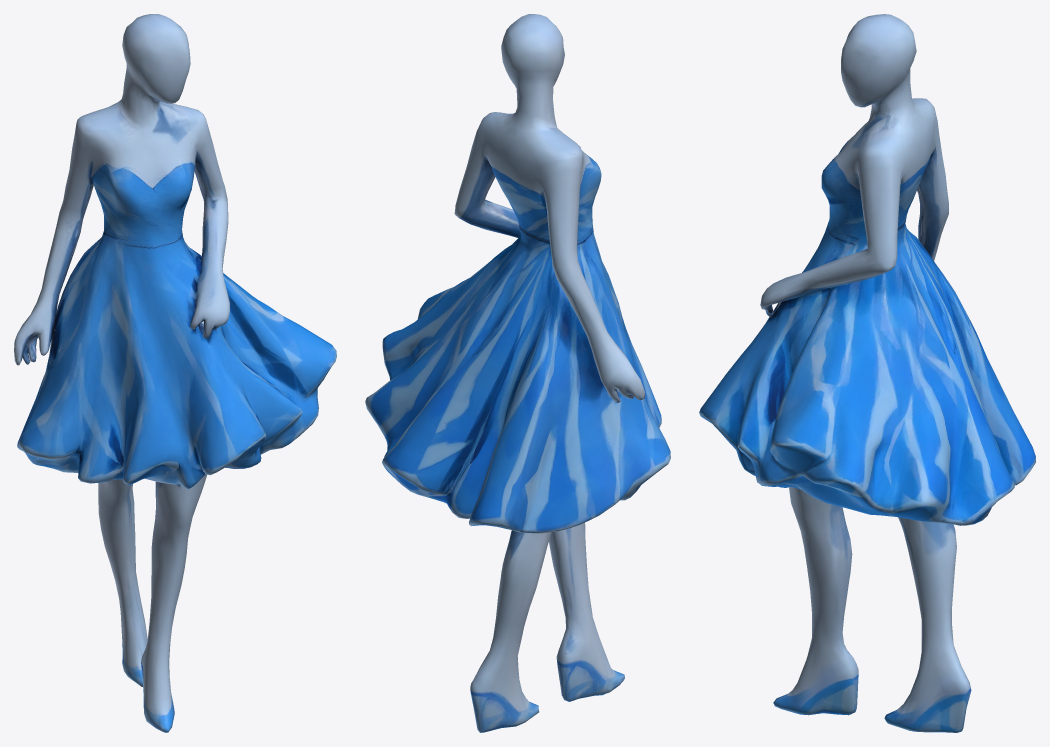
The model's file is mannequin1.glb.
3 renders of one model, left to right at view 1: azimuth 30°, elevation 25°; view 2: azimuth 150°, elevation 25°; view 3: azimuth 270°, elevation 25°, orthographic. The views are drawn at different scales.
Bounding box in the file's own units: 0.9076 × 2 × 0.8583.
1 material, 1 textured.
